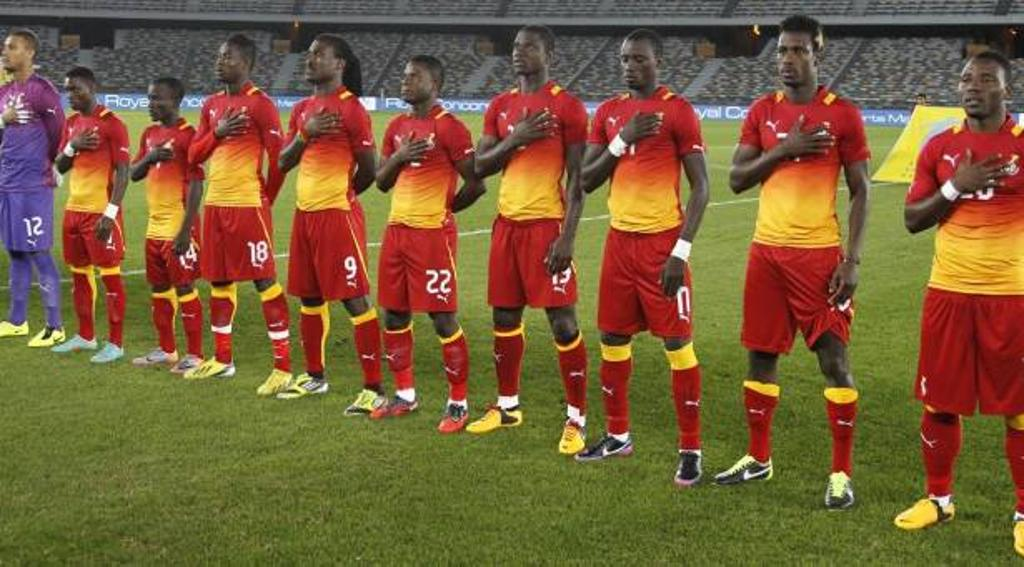face: (959, 60, 1005, 115), (776, 31, 813, 83), (620, 41, 655, 87), (512, 33, 546, 73), (400, 60, 430, 101), (304, 41, 335, 79), (215, 41, 241, 78), (147, 84, 173, 120), (64, 77, 89, 110), (1, 35, 26, 67), (917, 96, 922, 104)
